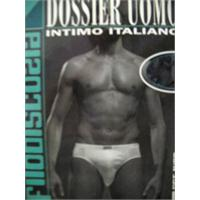mutande: (71, 141, 141, 186)
